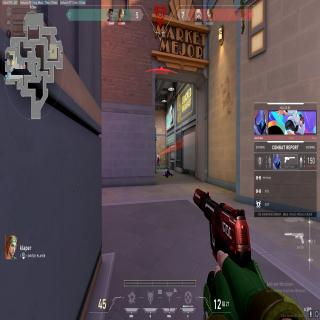ENEMY-BODY: (156, 152, 160, 170)
ENEMY-HEAD: (157, 152, 159, 156)
